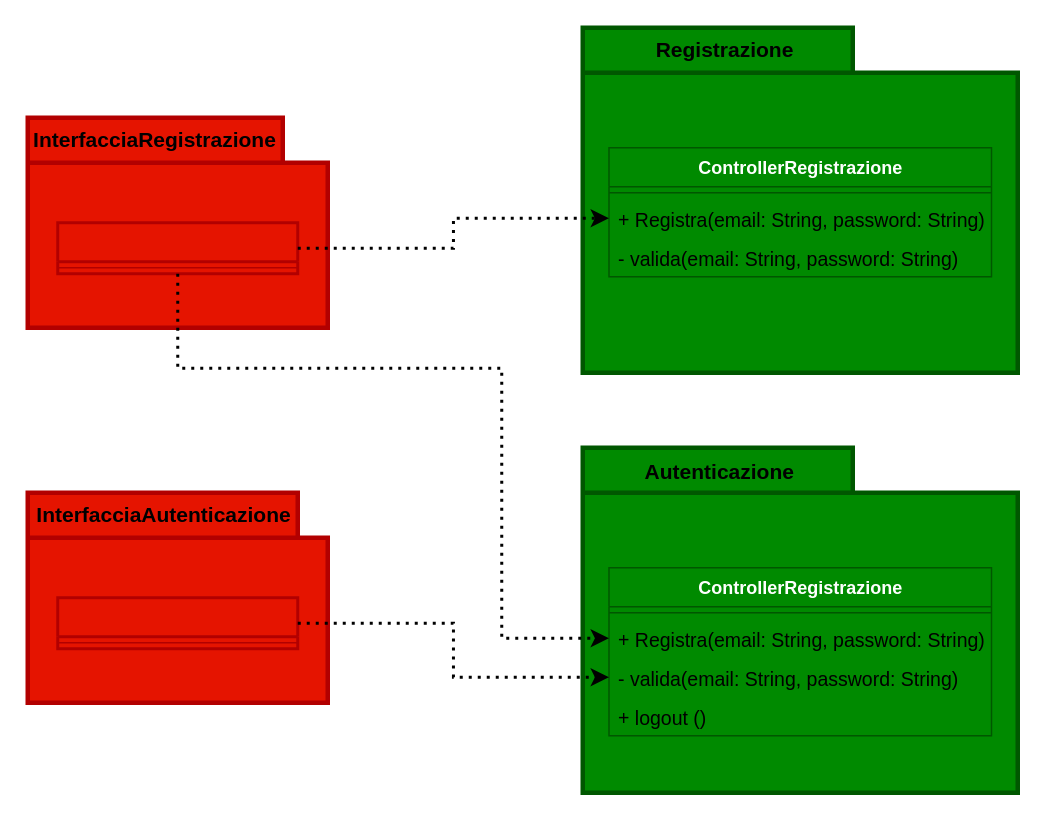
Some shapes in this 1046 by 821 pixel diagram are drawn without their labels. Each missing label, with the centre of its shape:
"ViewAutenticazione" goes at pixel 177 623.
"ViewRegistrazione" goes at pixel 177 247.
